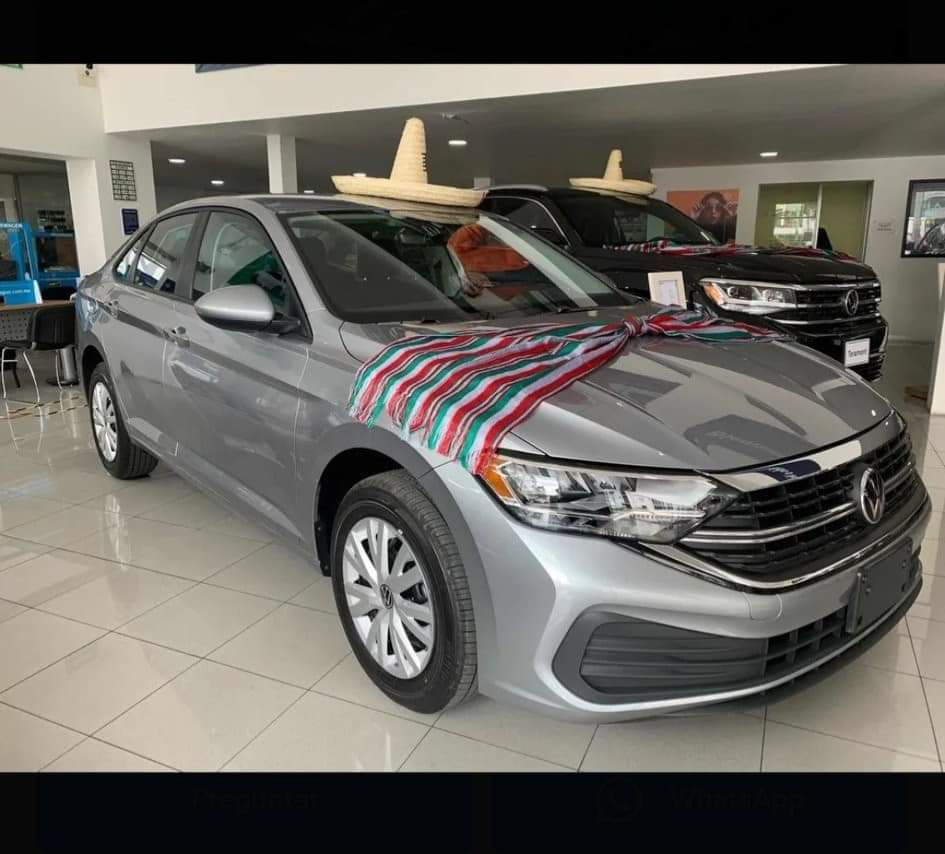Auto: (75, 197, 926, 718), (463, 184, 891, 397)
